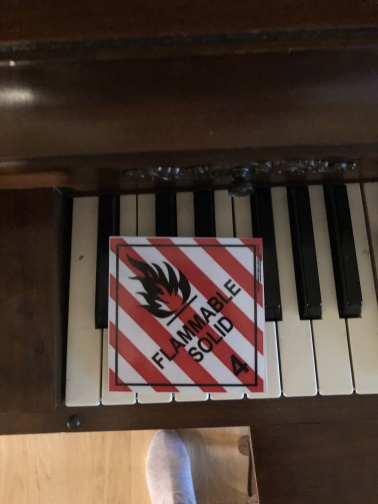FlammableSolid: (111, 238, 260, 388)
